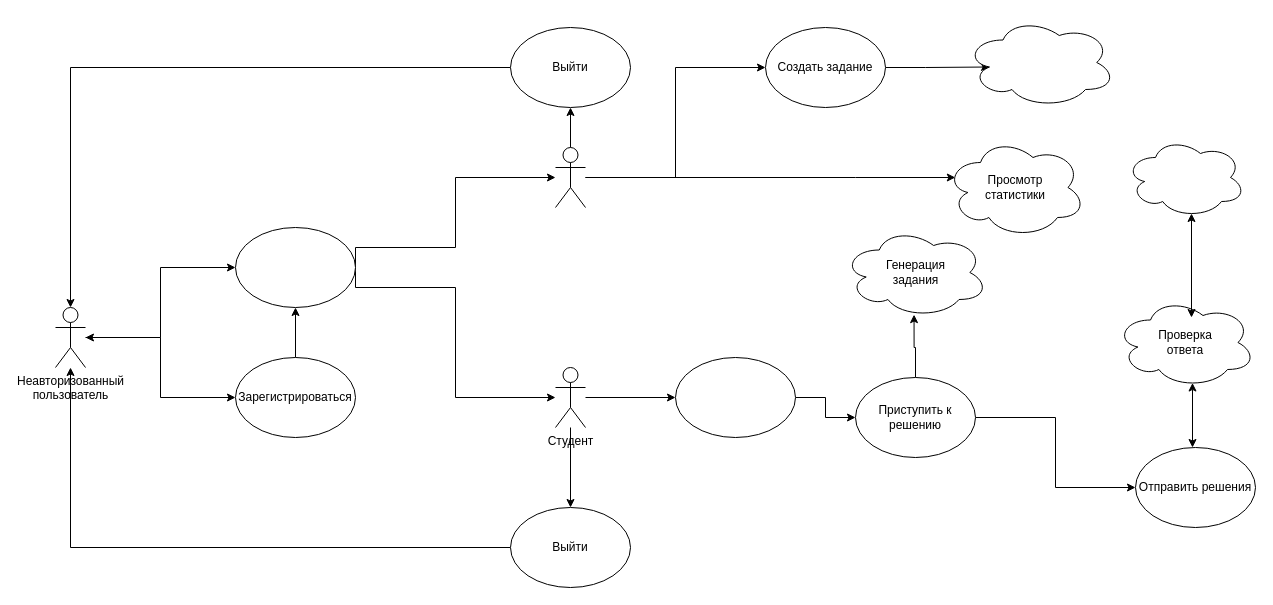
The diagram is 1273 pixels wide and 605 high, and some of its shapes have lost their labels. Each missing label, with the box of its shape:
Авторизоваться: (234, 226, 356, 308)
Выбрать тип задания: (674, 356, 796, 438)
Загрузка задания: (964, 16, 1116, 108)
Обновление статистики: (1124, 136, 1246, 218)
Преподаватель: (554, 146, 586, 208)
